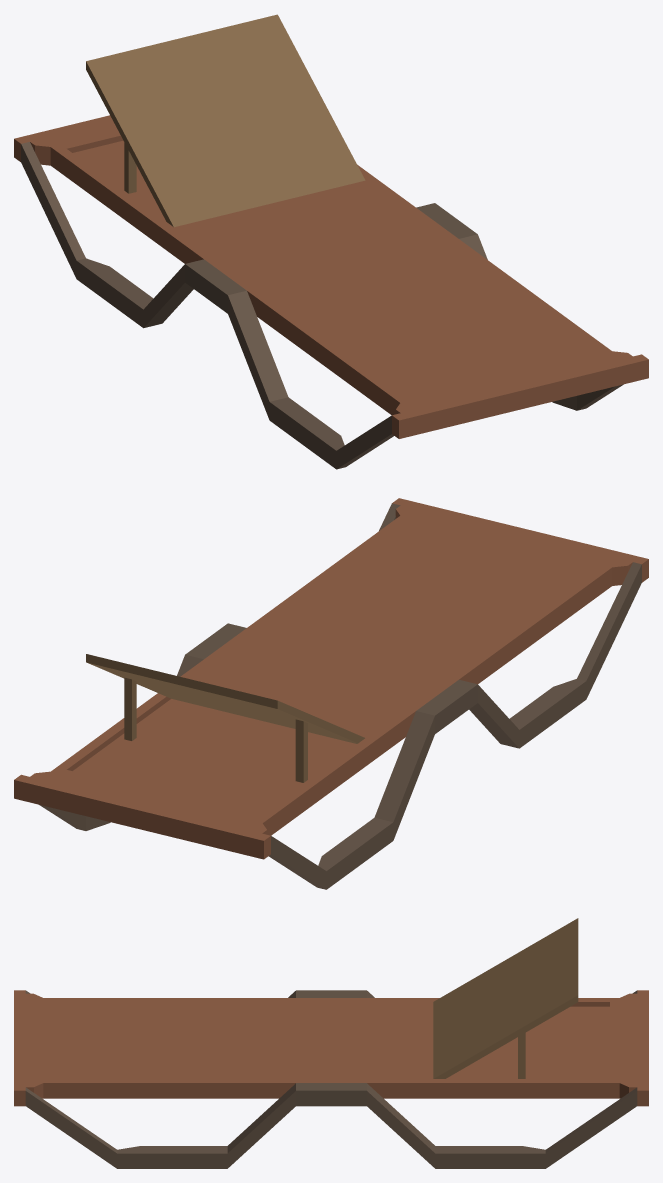
File: SM_deck_chair_02.glb
3 renders of one model, top to bottom at view 1: azimuth 30°, elevation 25°; view 2: azimuth 150°, elevation 25°; view 3: azimuth 270°, elevation 25°, orthographic. The views are drawn at different scales.
Visible parts, largest first — view 1: SM_deck_chair_02; view 2: SM_deck_chair_02; view 3: SM_deck_chair_02.
Part boxes in pixels (x1=…): SM_deck_chair_02: x1=14, y1=14, x2=648, y2=469; SM_deck_chair_02: x1=14, y1=498, x2=648, y2=889; SM_deck_chair_02: x1=14, y1=918, x2=648, y2=1168.
Bounding box in the file's own units: 0.8255 × 0.6204 × 2.2.
Materials: 1 (1 with a texture image).
